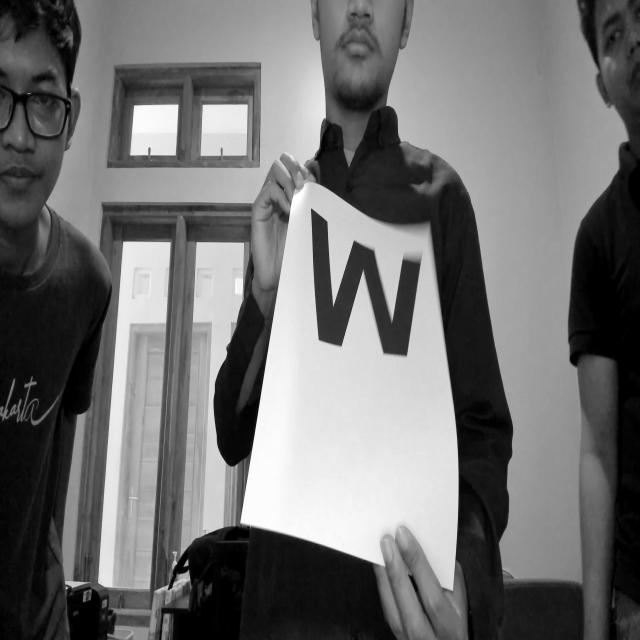w: (286, 191, 440, 416)
